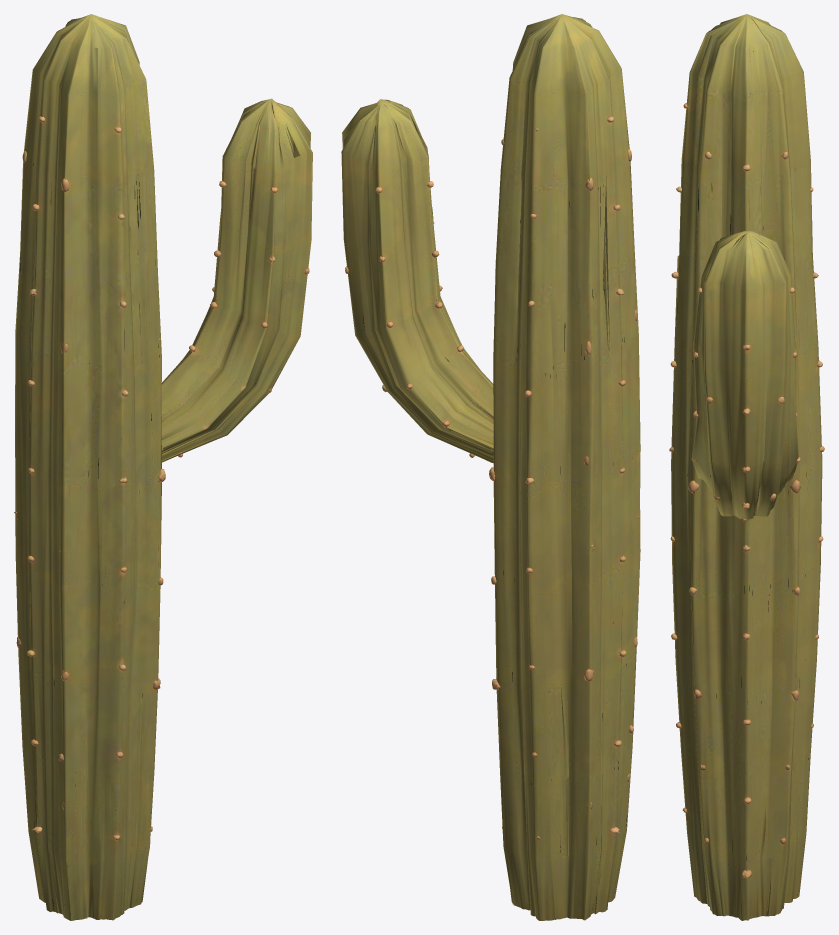
The model's file is cactus_b.glb.
3 renders of one model, left to right at view 1: azimuth 30°, elevation 25°; view 2: azimuth 150°, elevation 25°; view 3: azimuth 270°, elevation 25°, orthographic.
Visible parts, largest first — view 1: geometry_0; view 2: geometry_0; view 3: geometry_0.
Part boxes in pixels (x1=…): geometry_0: x1=14, y1=14, x2=312, y2=920; geometry_0: x1=341, y1=14, x2=640, y2=920; geometry_0: x1=669, y1=14, x2=824, y2=920.
Size of the model in its own units: 0.3184 by 0.9512 by 0.1519.
1 material, 1 textured.
